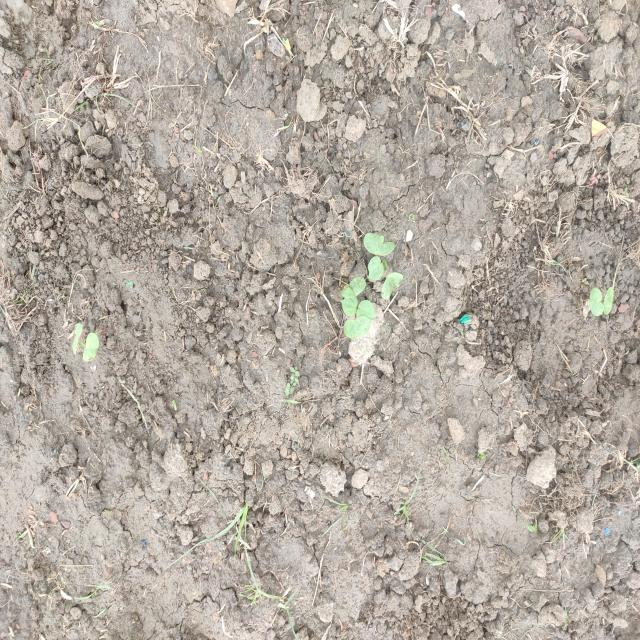seedling: (363, 233, 395, 256), (381, 272, 404, 300), (344, 315, 370, 339), (342, 276, 366, 298), (82, 332, 99, 361), (589, 288, 604, 317), (367, 257, 384, 281), (356, 300, 377, 318), (72, 324, 83, 355), (341, 296, 358, 315), (603, 287, 614, 315)
